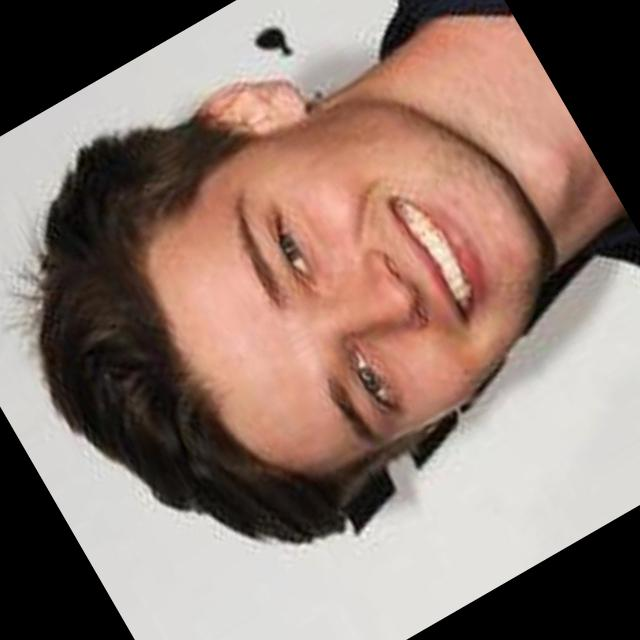bareface: (33, 0, 586, 547)
